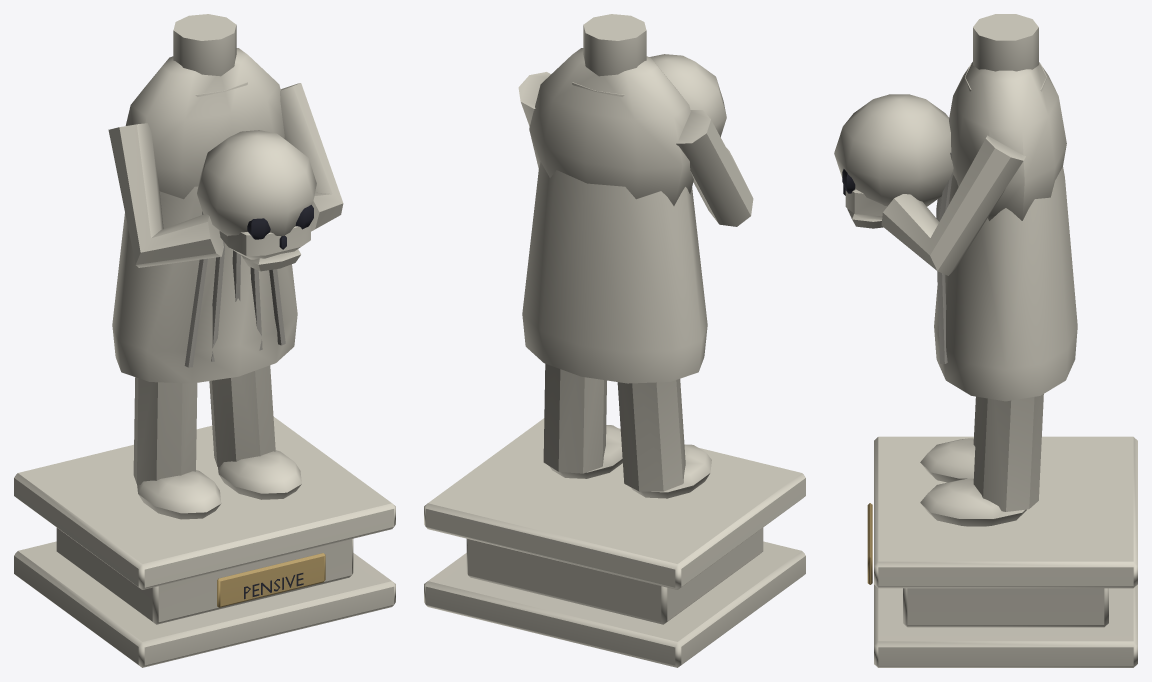
Rendered from statue_marble.glb.
3 views of the same model, side by side, from view 1: azimuth 30°, elevation 25°; view 2: azimuth 150°, elevation 25°; view 3: azimuth 270°, elevation 25° (orthographic). The views are drawn at different scales.
Parts seen in each view (by area): view 1: statue_marble; view 2: statue_marble; view 3: statue_marble.
Part boxes in pixels (x1=…): statue_marble: x1=14, y1=14, x2=395, y2=667; statue_marble: x1=424, y1=14, x2=805, y2=667; statue_marble: x1=834, y1=14, x2=1137, y2=667.
Bounding box in the file's own units: 0.83 × 1.74 × 0.8285.
